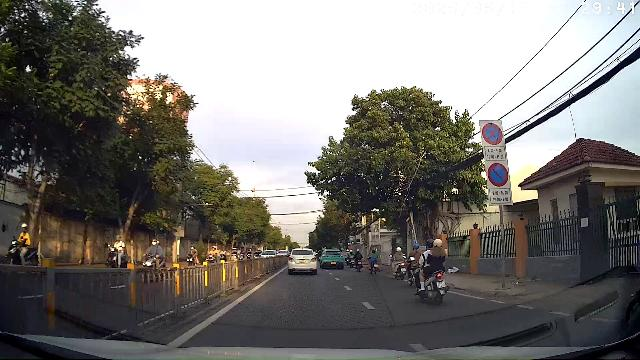130-cam-dung-va-do-xe: (482, 123, 502, 145)
131a-cam-do-xe: (488, 162, 508, 186)
